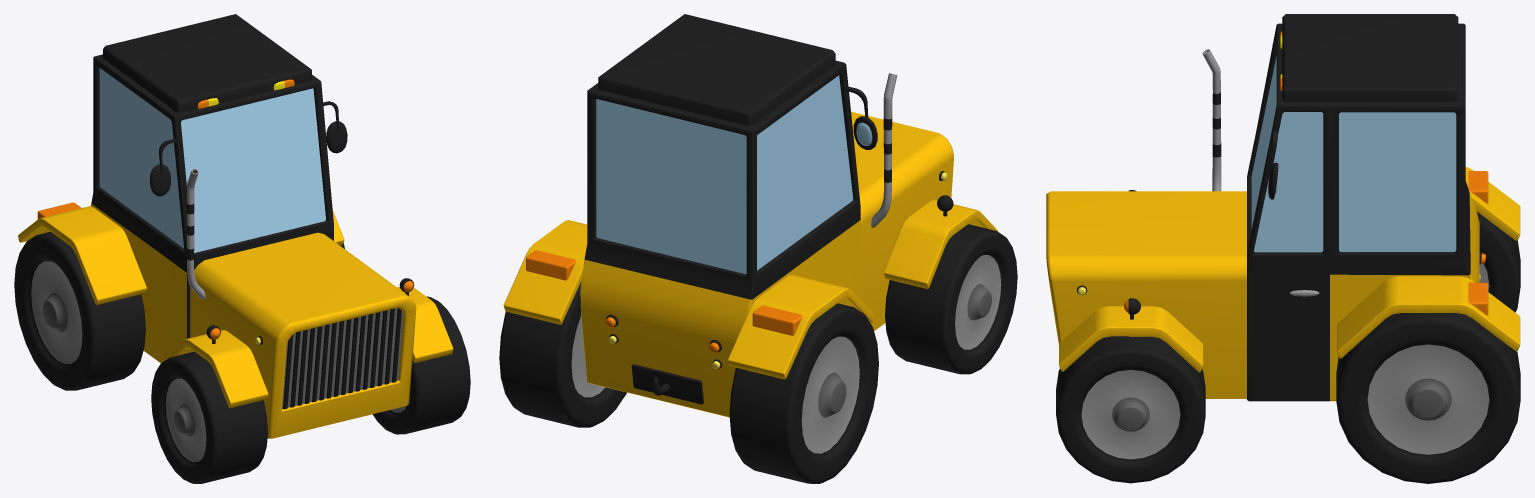
File: Farm_8_Tractor_1.glb
3 views of the same model, side by side, from view 1: azimuth 30°, elevation 25°; view 2: azimuth 150°, elevation 25°; view 3: azimuth 270°, elevation 25° (orthographic). The views are drawn at different scales.
Parts seen in each view (by area): view 1: Farm_8_Tractor_1; view 2: Farm_8_Tractor_1; view 3: Farm_8_Tractor_1.
Part boxes in pixels (bbox=[...]): Farm_8_Tractor_1: bbox=[14, 14, 470, 483]; Farm_8_Tractor_1: bbox=[499, 14, 1017, 483]; Farm_8_Tractor_1: bbox=[1046, 14, 1520, 483].
Size of the model in its own units: 3.36 by 3.86 by 4.56.
1 material, 1 textured.
